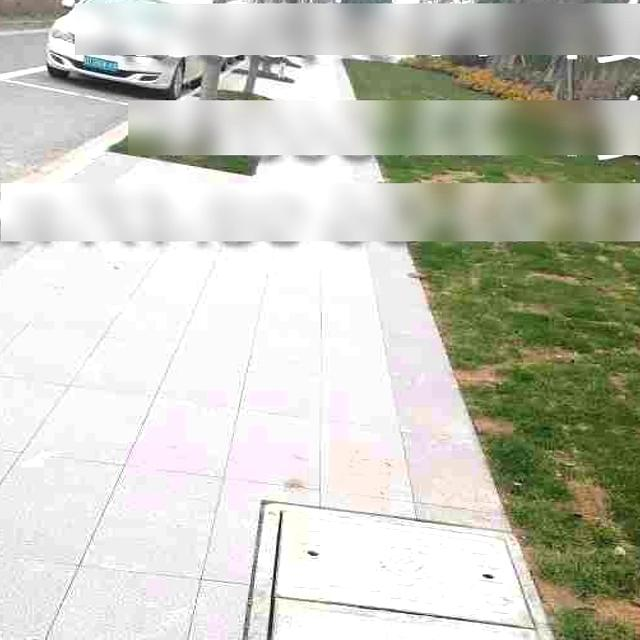good: (232, 522, 614, 640)
